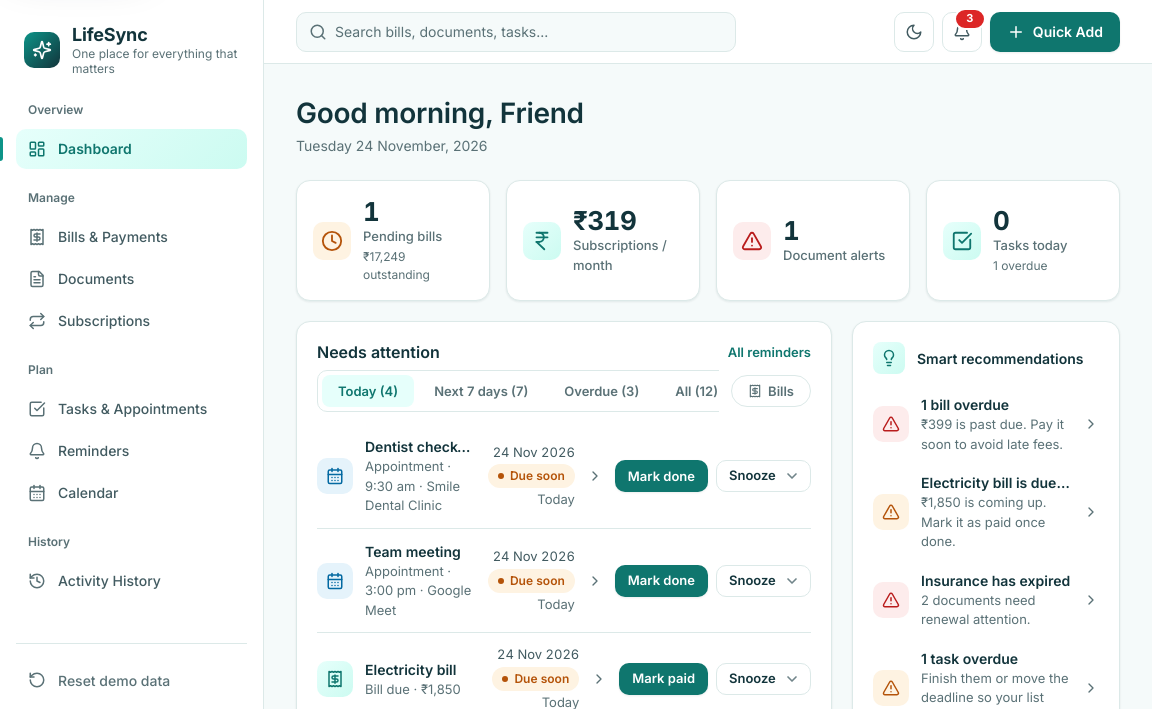
Test: Needs attention panel › snoozing hides the item and Undo brings it back, saving only an active snooze
Select "3 days" in the dropdown named "snooze duration for electricity bill" at (764, 679), box [716,663,811,695]
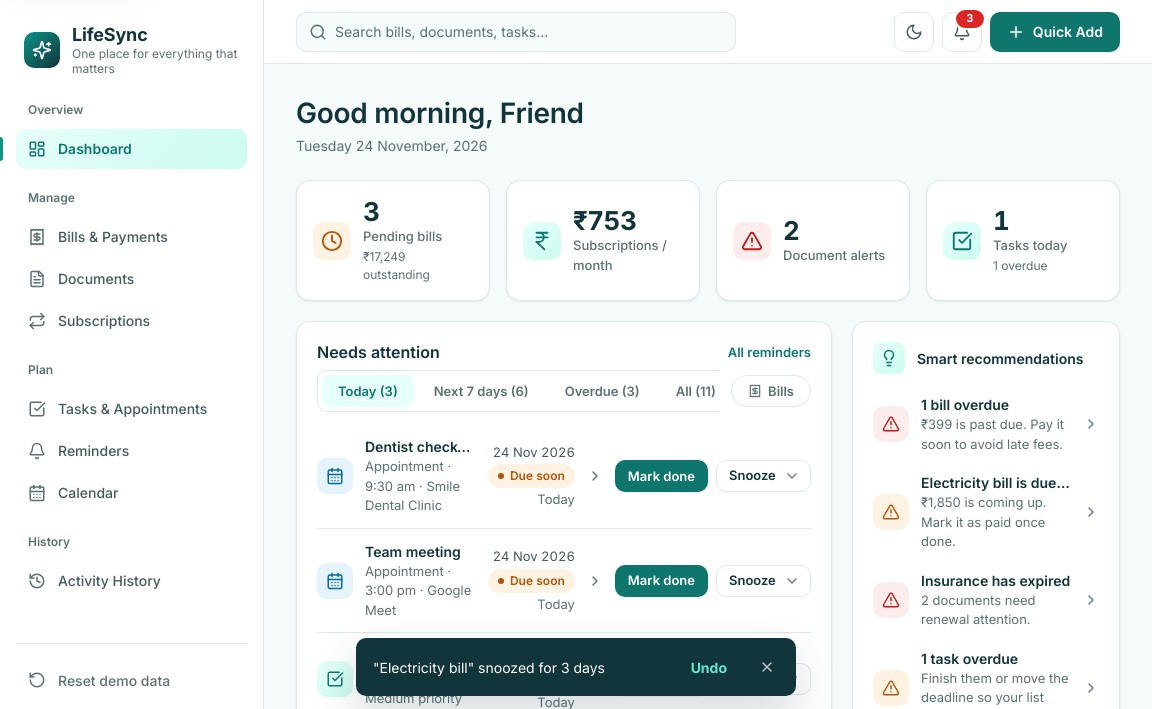
Expected: the text "Electricity bill" is not shown
Expected: the tab "Today (3)" is shown, [322,375,414,407]
Expected: the text "\"Electricity bill\" snoozed for 3 days" is shown, [373,658,605,676]
Click the button "Undo" at (709, 667), box [679,651,739,683]
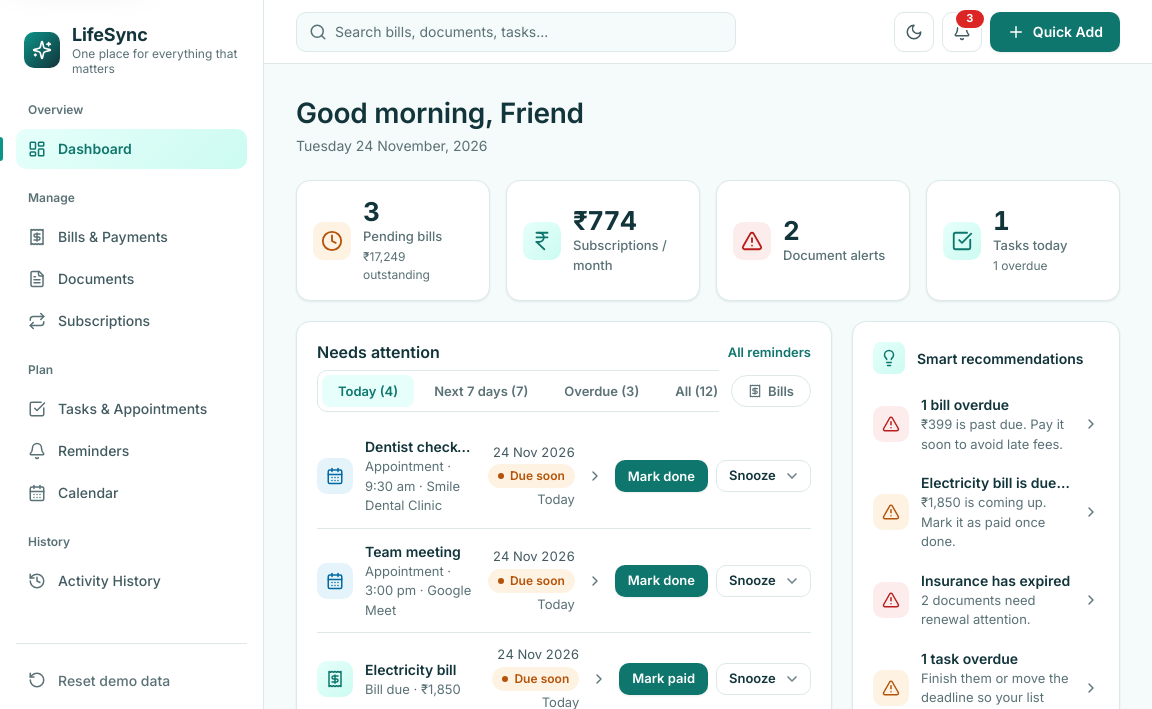
Expected: the text "Electricity bill" is shown, [365,661,456,678]
Expected: the tab "Today (4)" is shown, [322,375,414,407]
